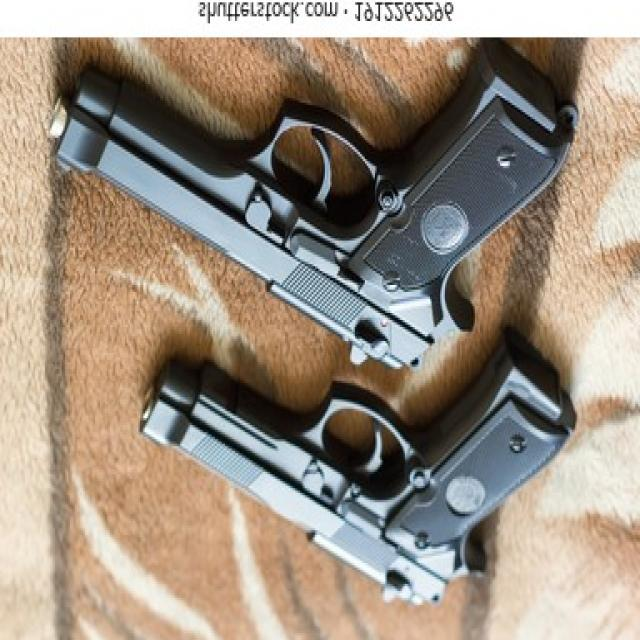Gun: (75, 44, 580, 350), (177, 342, 572, 595)
